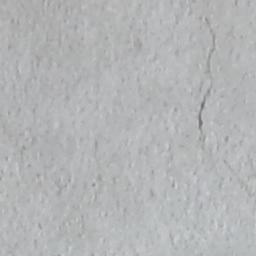Vertical Crack: (194, 14, 217, 139)
